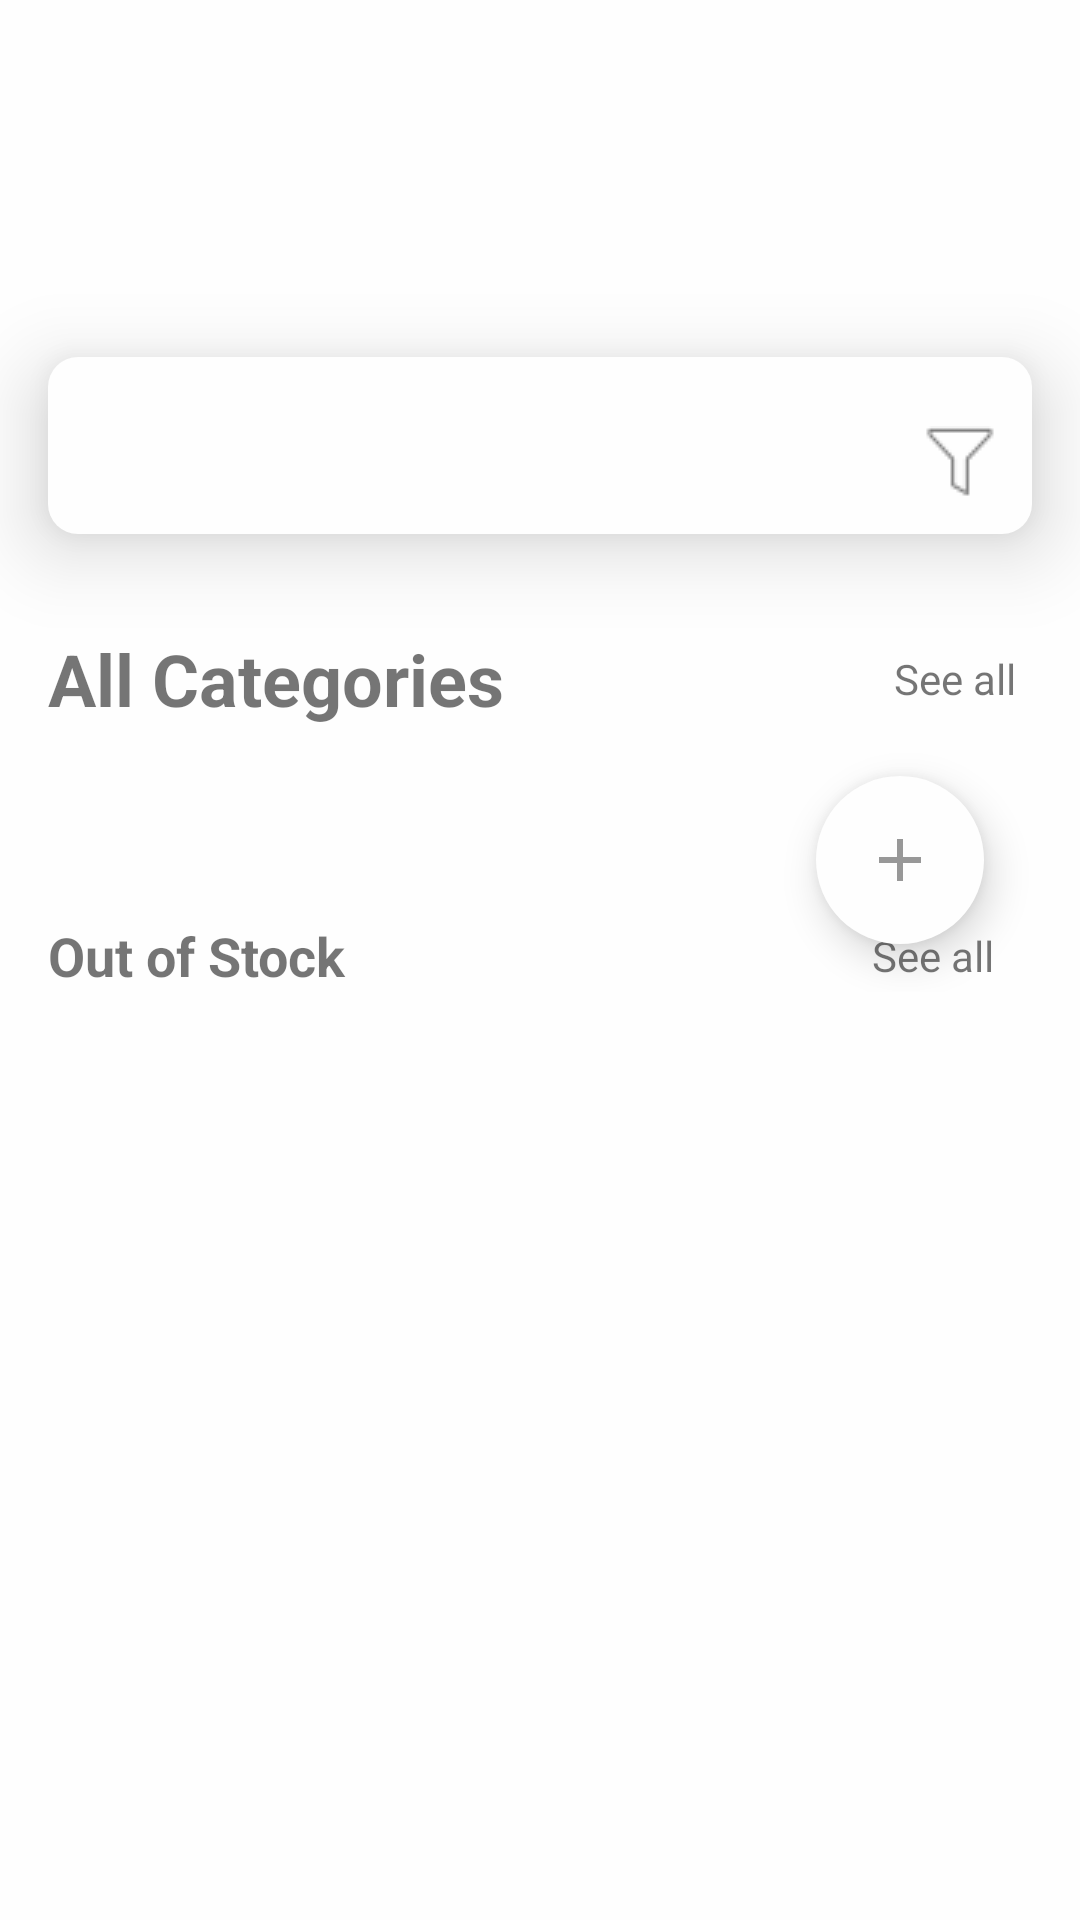

Where icons sit on this 1080x1920 app screen, as (x1, y1, x2, y2):
add: (834, 839, 984, 944)
